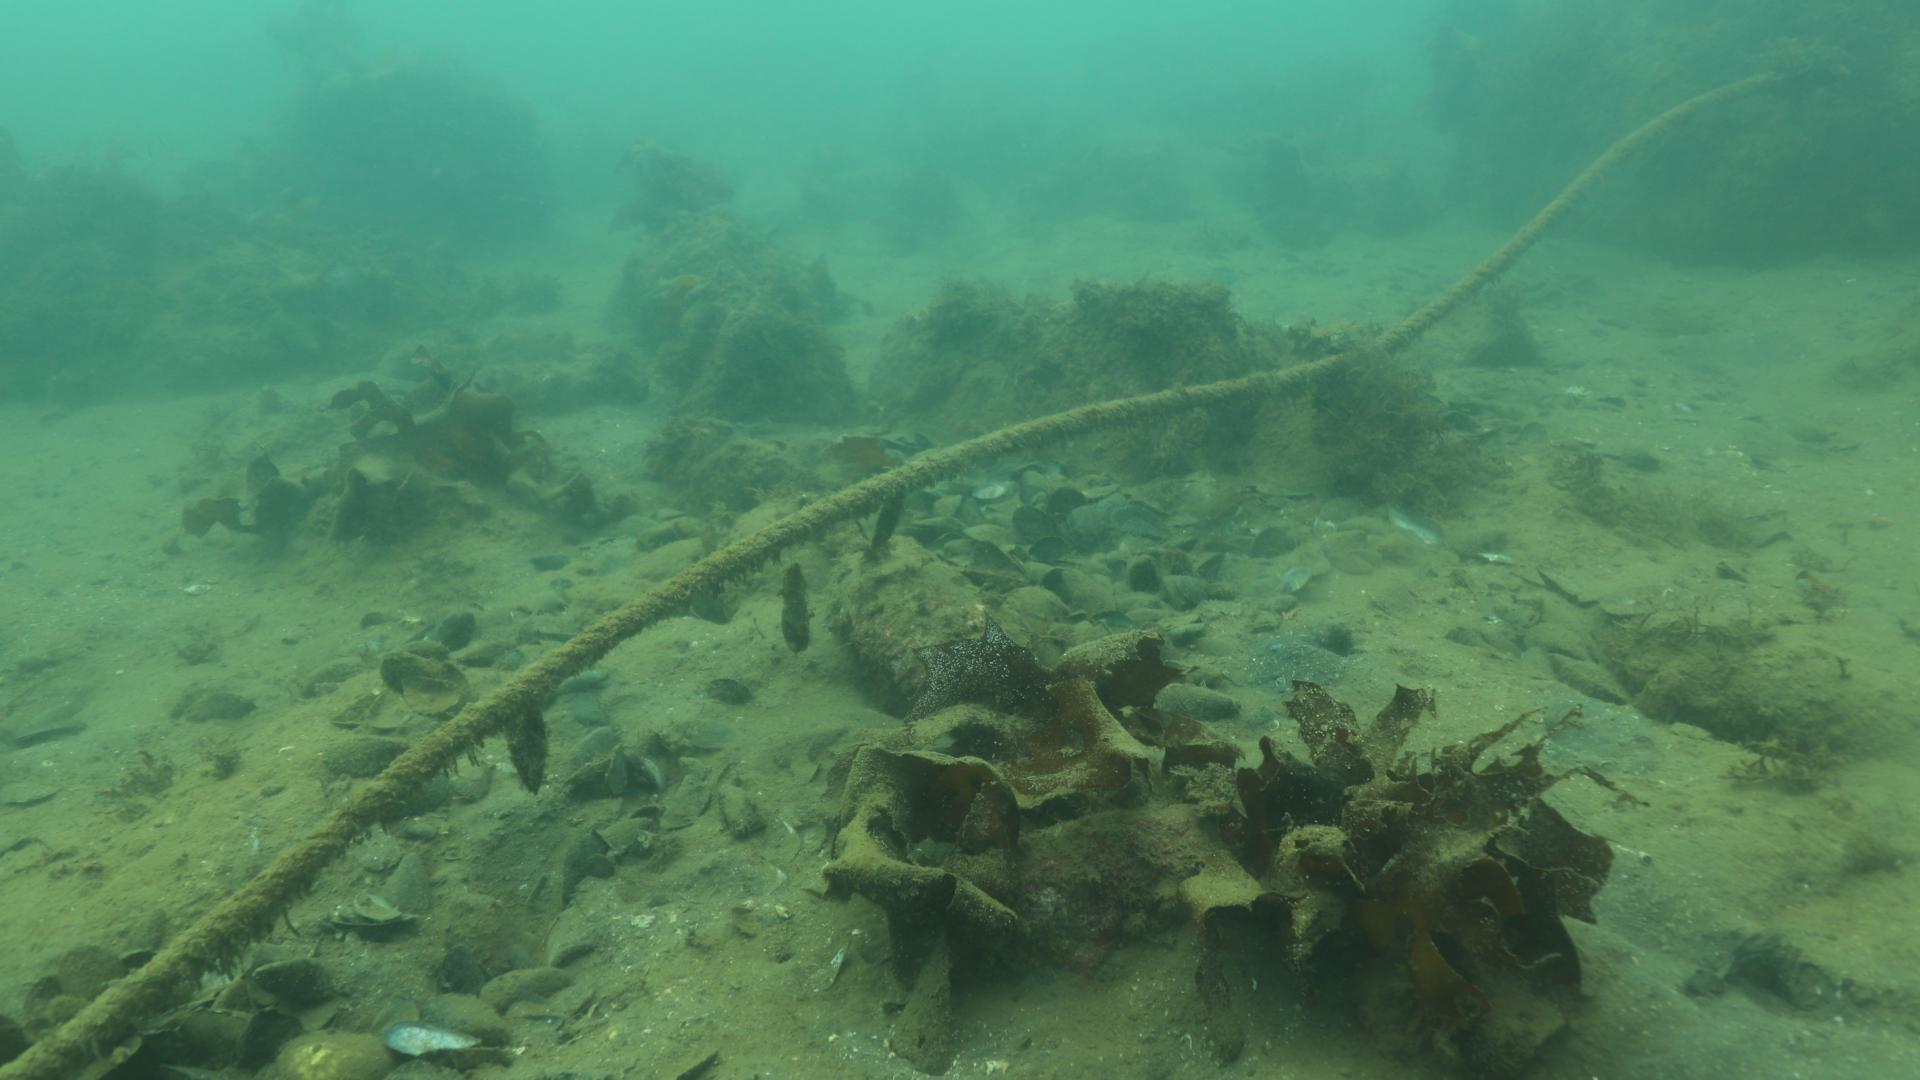rope: (0, 75, 1760, 1080)
